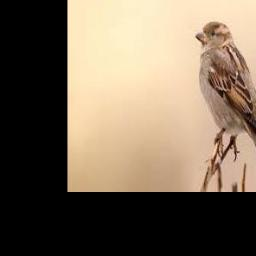Sparrow: (195, 22, 256, 182)
